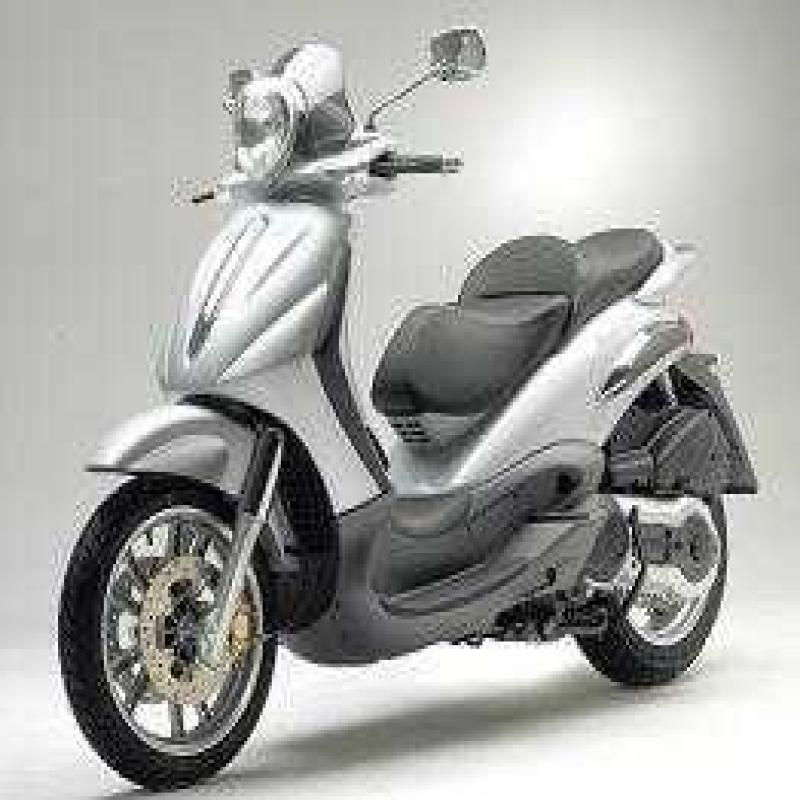bike: (50, 14, 765, 800)
